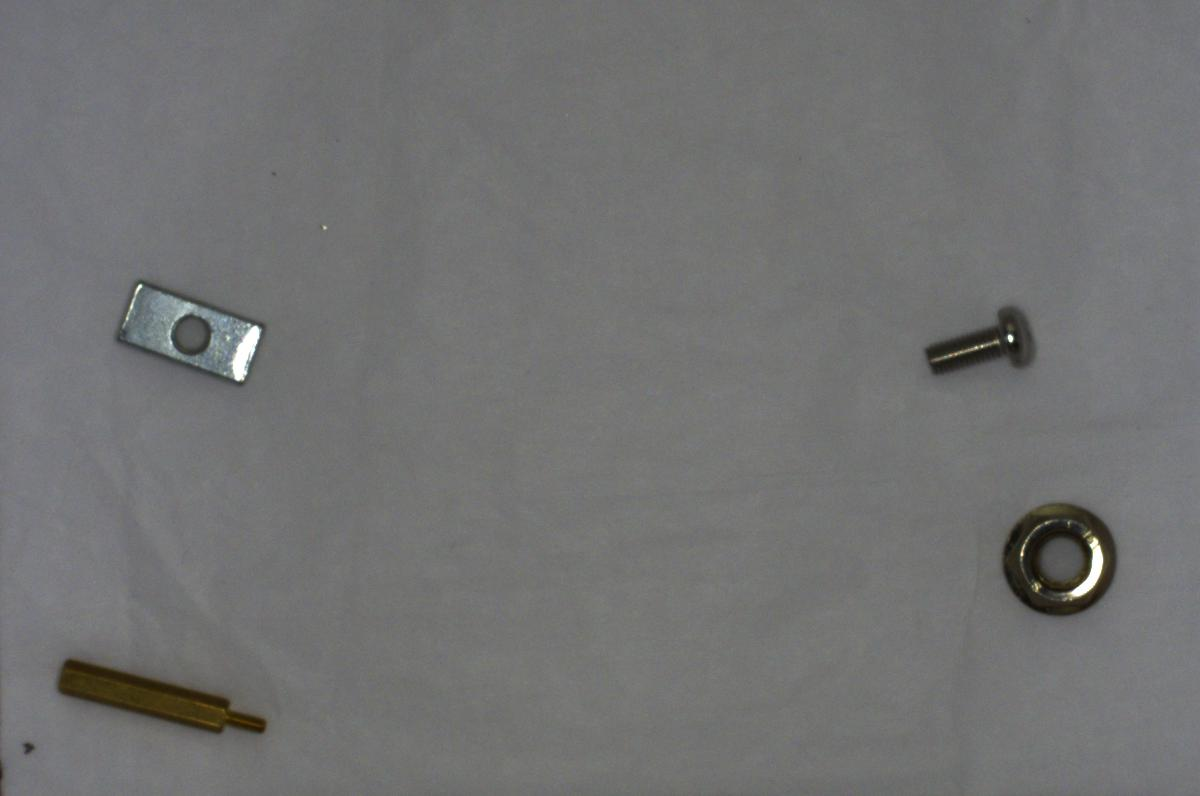Flange nut: (994, 501, 1122, 623)
Hexagon pillar: (48, 648, 270, 745)
Rectangular nut: (106, 276, 264, 388)
Round head screw: (920, 294, 1046, 389)
